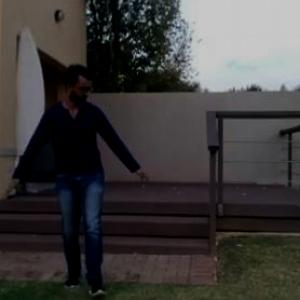land: (1, 44, 180, 299)
